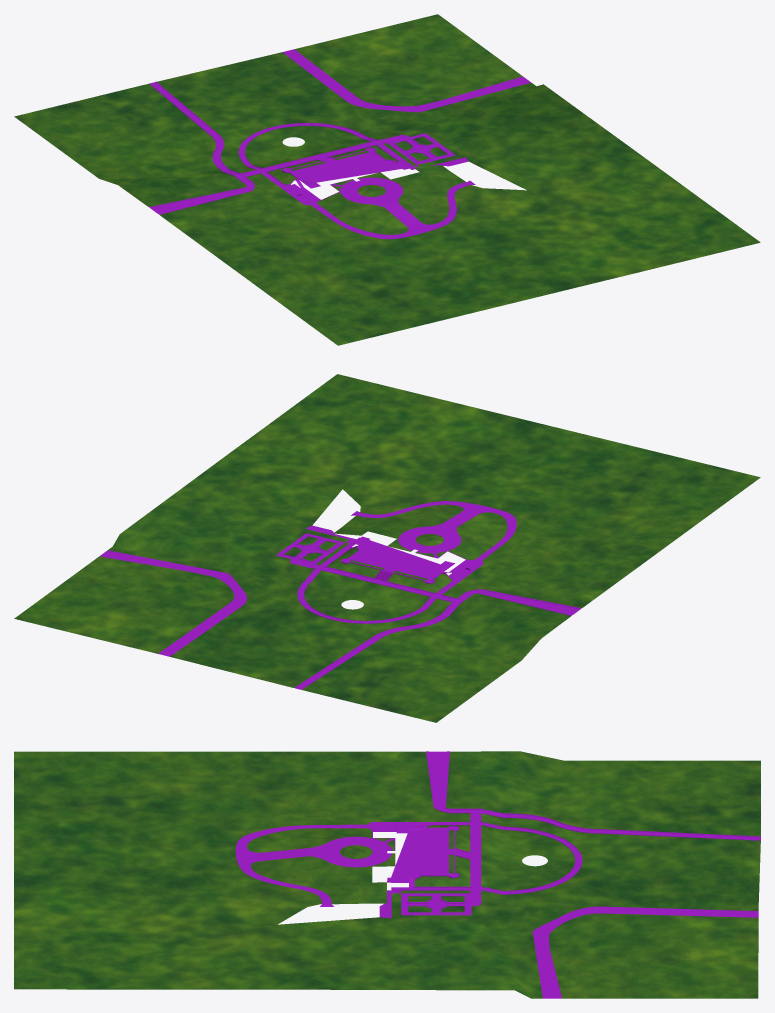
The model's file is chateau noisy ground.fbx.
3 views of the same model, one above another, from view 1: azimuth 30°, elevation 25°; view 2: azimuth 150°, elevation 25°; view 3: azimuth 270°, elevation 25° (orthographic). The views are drawn at different scales.
Parts seen in each view (by area): view 1: noisy terrain; view 2: noisy terrain; view 3: noisy terrain.
Part boxes in pixels (x1,y1,x2,y2): noisy terrain: [14, 14, 760, 345]; noisy terrain: [14, 374, 760, 722]; noisy terrain: [14, 751, 760, 998].
Size of the model in its own units: 7552 by 187 by 10013.
Materials: 2 (1 with a texture image).
